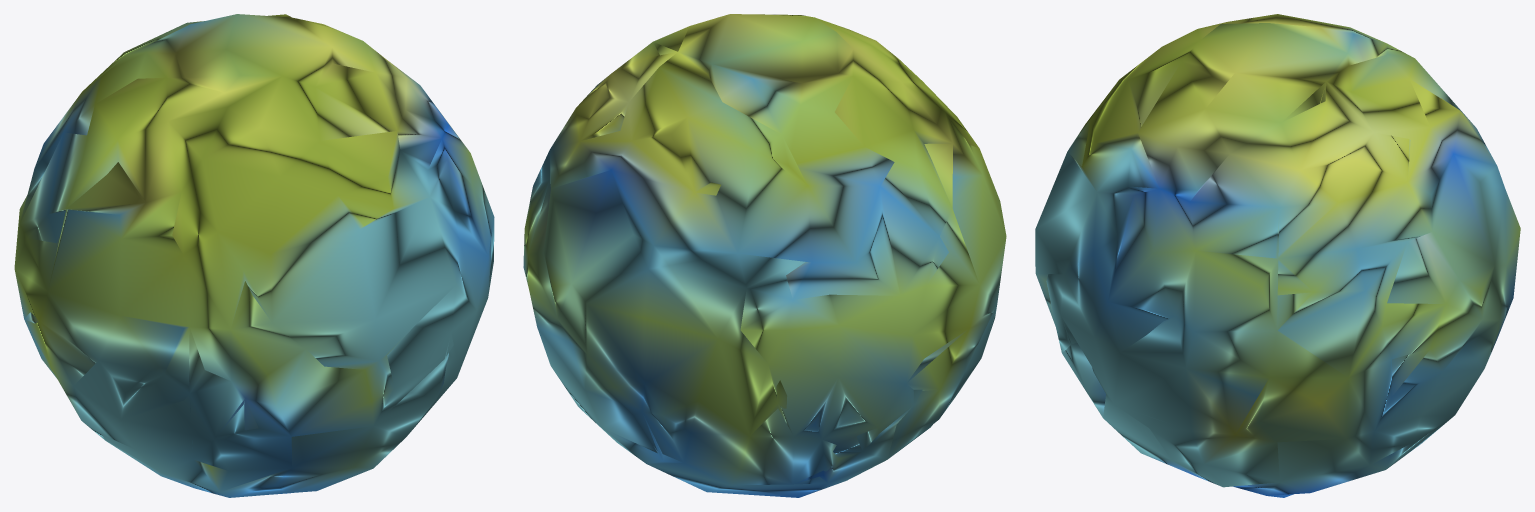
File: gen3d-globe-lod1.glb
3 renders of one model, left to right at view 1: azimuth 30°, elevation 25°; view 2: azimuth 150°, elevation 25°; view 3: azimuth 270°, elevation 25°, orthographic.
Visible parts, largest first — view 1: part_0; view 2: part_0; view 3: part_0.
Boxes of the visible parts, x1,y1,x2,y2 form: part_0: (14, 14, 494, 497); part_0: (523, 14, 1006, 497); part_0: (1035, 14, 1520, 497).
Size of the model in its own units: 0.9793 by 0.9769 by 0.9816.
